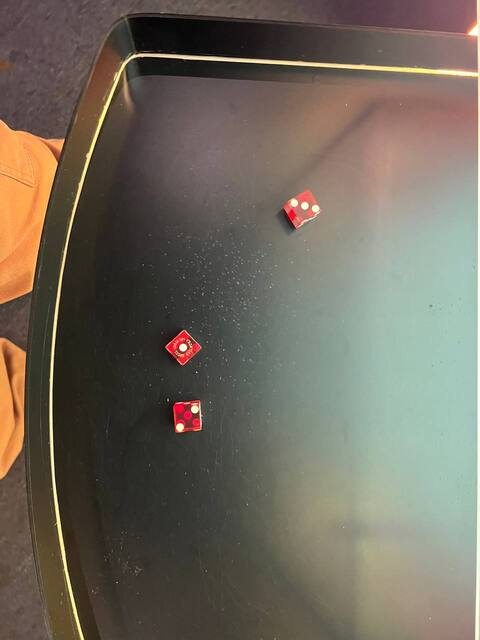one: (161, 327, 205, 368)
three: (283, 185, 324, 224)
two: (168, 401, 205, 436)
